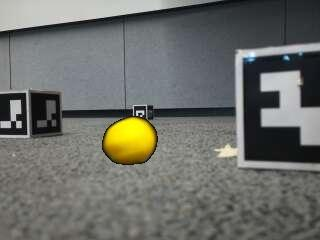lemon: (103, 116, 155, 164)
